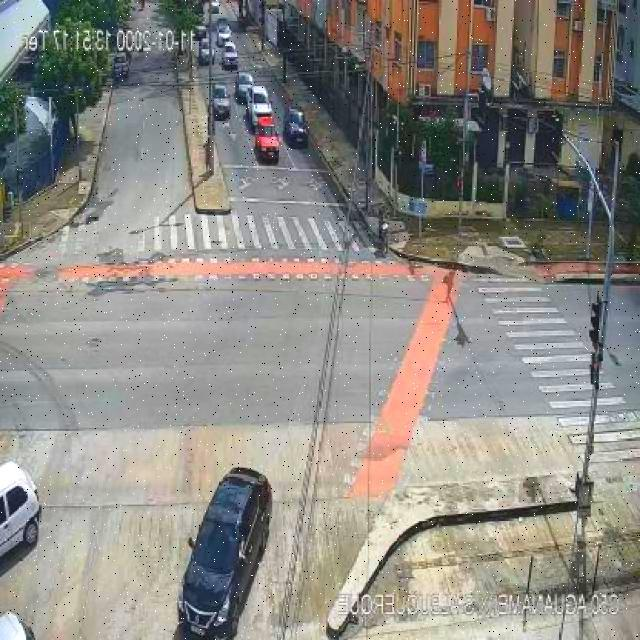car: (179, 468, 271, 638), (0, 461, 41, 556), (254, 106, 281, 164), (246, 85, 272, 128), (284, 108, 309, 148), (212, 84, 231, 121), (235, 71, 254, 104), (221, 41, 239, 71), (198, 38, 216, 65), (216, 19, 231, 47), (195, 25, 208, 39)
traffic-lights: (575, 179, 616, 562)
